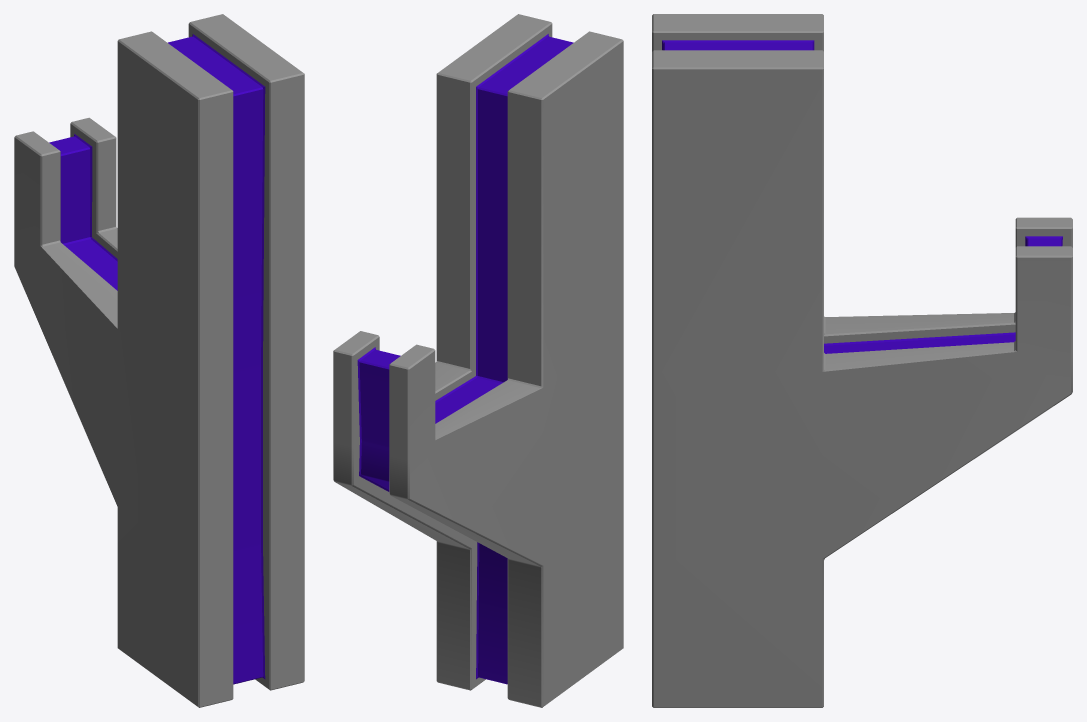
Rendered from SM_Shipment_03.fbx.
The picture shows the model from 3 angles, left to right: view 1: azimuth 30°, elevation 25°; view 2: azimuth 150°, elevation 25°; view 3: azimuth 270°, elevation 25°; orthographic projection. The views are drawn at different scales.
Visible parts, largest first — view 1: SM_Shipment_03; view 2: SM_Shipment_03; view 3: SM_Shipment_03.
Part boxes in pixels (x1=…): SM_Shipment_03: x1=14, y1=14, x2=304, y2=707; SM_Shipment_03: x1=333, y1=14, x2=623, y2=707; SM_Shipment_03: x1=652, y1=14, x2=1072, y2=707.
Bounding box in the file's own units: 6.58 × 21.38 × 35.93.
1 material, 1 textured.
